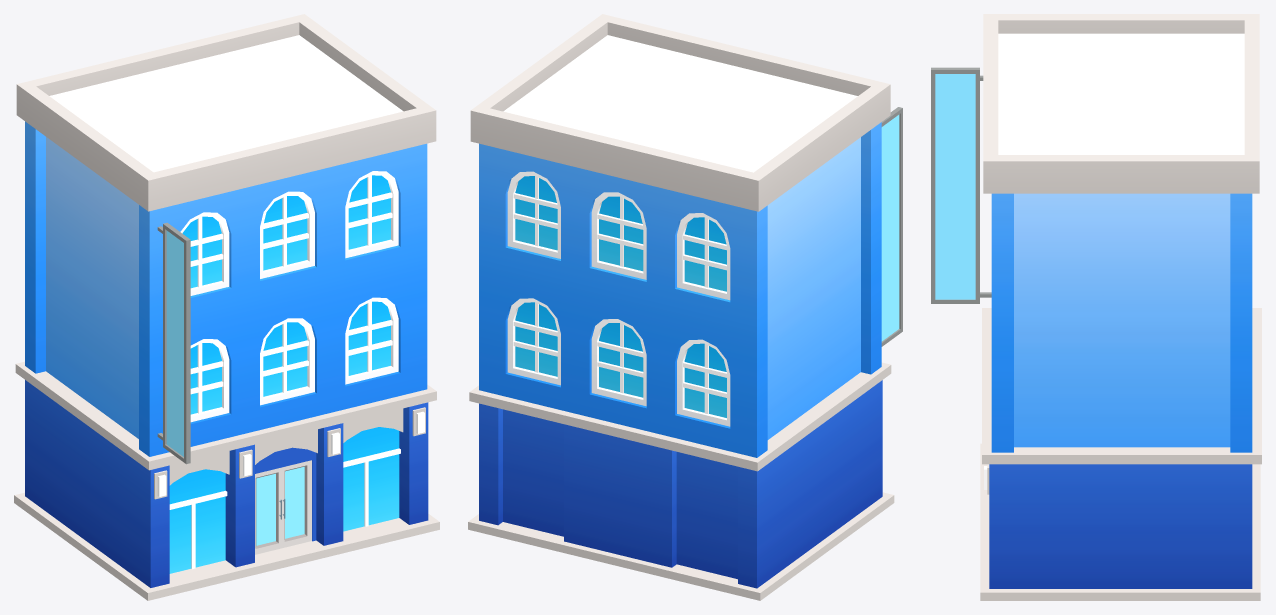
File: city2-building-hotel-05.glb
3 renders of one model, left to right at view 1: azimuth 30°, elevation 25°; view 2: azimuth 150°, elevation 25°; view 3: azimuth 270°, elevation 25°, orthographic. The views are drawn at different scales.
Parts seen in each view (by area): view 1: Building_Hotel_05; view 2: Building_Hotel_05; view 3: Building_Hotel_05.
Boxes of the visible parts, x1,y1,x2,y2 form: Building_Hotel_05: [14, 14, 439, 600]; Building_Hotel_05: [468, 14, 902, 600]; Building_Hotel_05: [931, 14, 1261, 600].
Size of the model in its own units: 8.22 by 11.26 by 7.7.
1 material, 1 textured.
